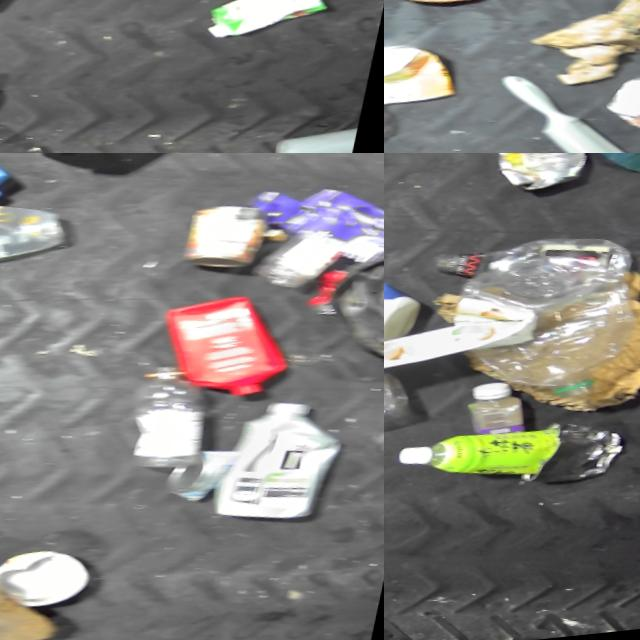can: (176, 205, 269, 284), (488, 153, 597, 209)
non_white_jug: (154, 294, 305, 417)
plastic_bottle: (442, 252, 640, 428), (130, 369, 220, 483), (468, 384, 544, 450)
